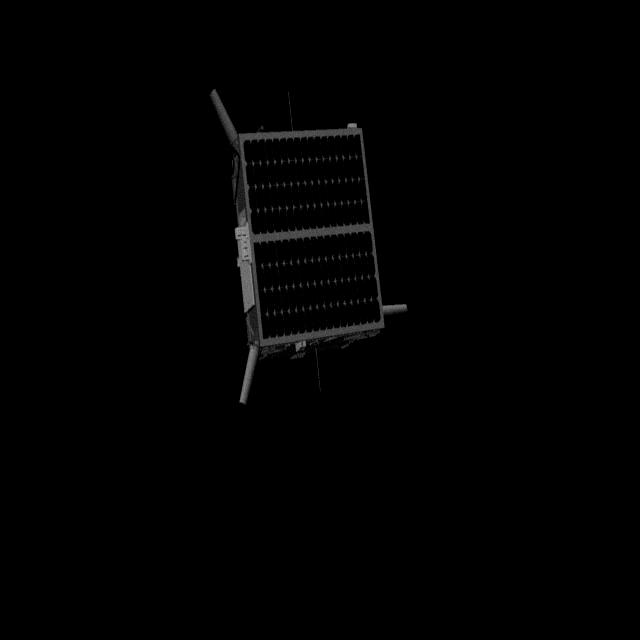satellite: (192, 76, 410, 412)
